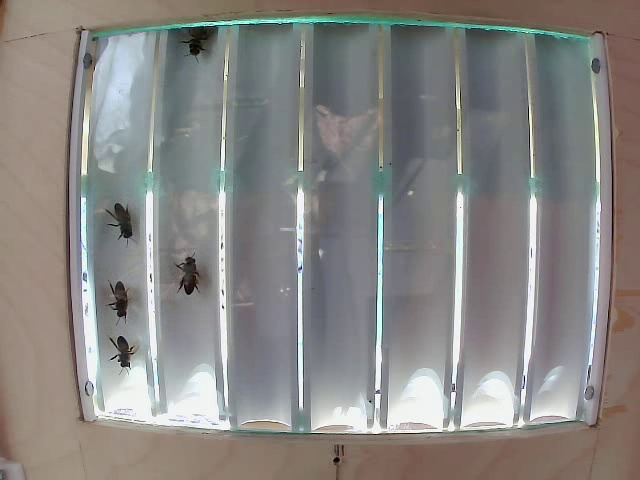bee: (96, 273, 136, 323), (105, 327, 142, 375), (102, 187, 139, 235), (172, 253, 209, 298), (188, 19, 214, 62)
